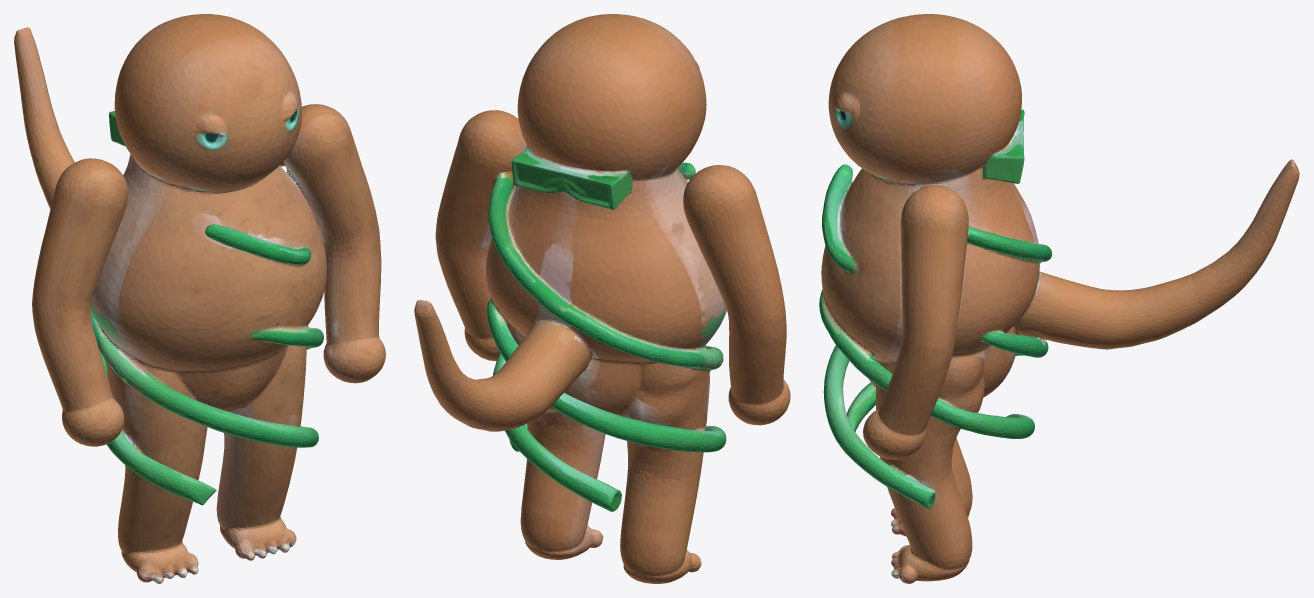
The model's file is creature-128.glb.
The picture shows the model from 3 angles, left to right: view 1: azimuth 30°, elevation 25°; view 2: azimuth 150°, elevation 25°; view 3: azimuth 270°, elevation 25°; orthographic projection. The views are drawn at different scales.
Parts seen in each view (by area): view 1: tmpjs221o0i.ply; view 2: tmpjs221o0i.ply; view 3: tmpjs221o0i.ply.
Boxes of the visible parts, left/top/right/bottom form: tmpjs221o0i.ply: left=14, top=14, right=385, bottom=583; tmpjs221o0i.ply: left=414, top=14, right=790, bottom=583; tmpjs221o0i.ply: left=819, top=14, right=1299, bottom=583.
Bounding box in the file's own units: 1.33 × 1.99 × 1.65.
Materials: 1 (1 with a texture image).
